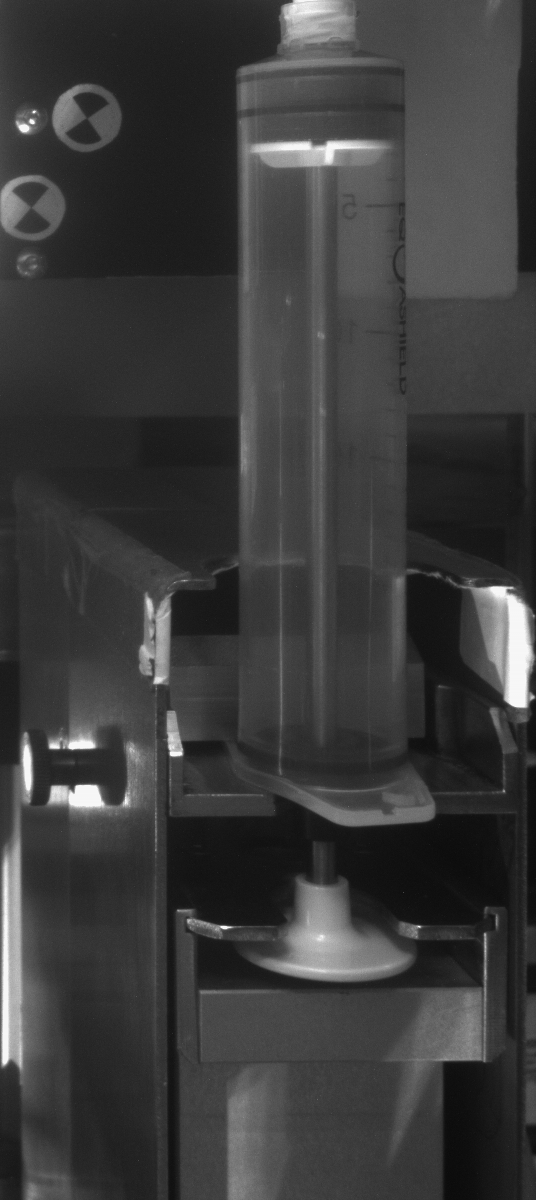piston: (233, 84, 408, 172)
